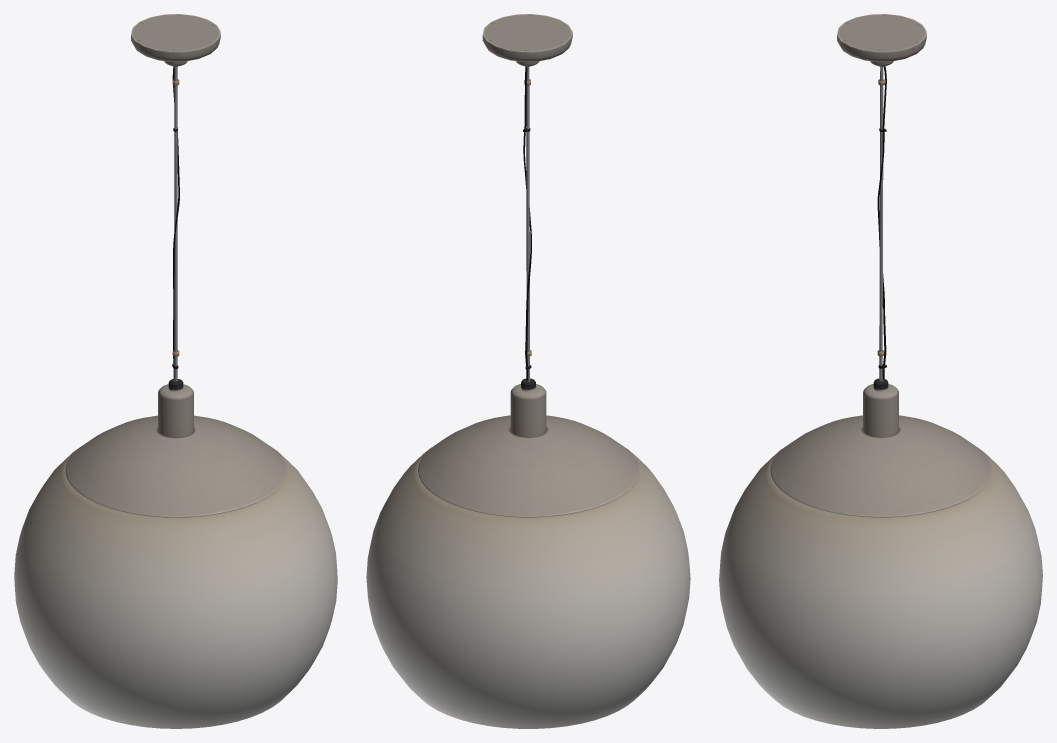
The model's file is lampa.obj.
3 renders of one model, left to right at view 1: azimuth 30°, elevation 25°; view 2: azimuth 150°, elevation 25°; view 3: azimuth 270°, elevation 25°, orthographic.
Parts seen in each view (by area): view 1: modern_ceiling_lamp_01_Cylinder.003; view 2: modern_ceiling_lamp_01_Cylinder.003; view 3: modern_ceiling_lamp_01_Cylinder.003.
Boxes of the visible parts, x1,y1,x2,y2 form: modern_ceiling_lamp_01_Cylinder.003: (14, 14, 337, 728); modern_ceiling_lamp_01_Cylinder.003: (366, 14, 690, 728); modern_ceiling_lamp_01_Cylinder.003: (719, 14, 1042, 728).
Size of the model in its own units: 0.4316 by 0.9516 by 0.4317.
3 materials, 3 textured.
